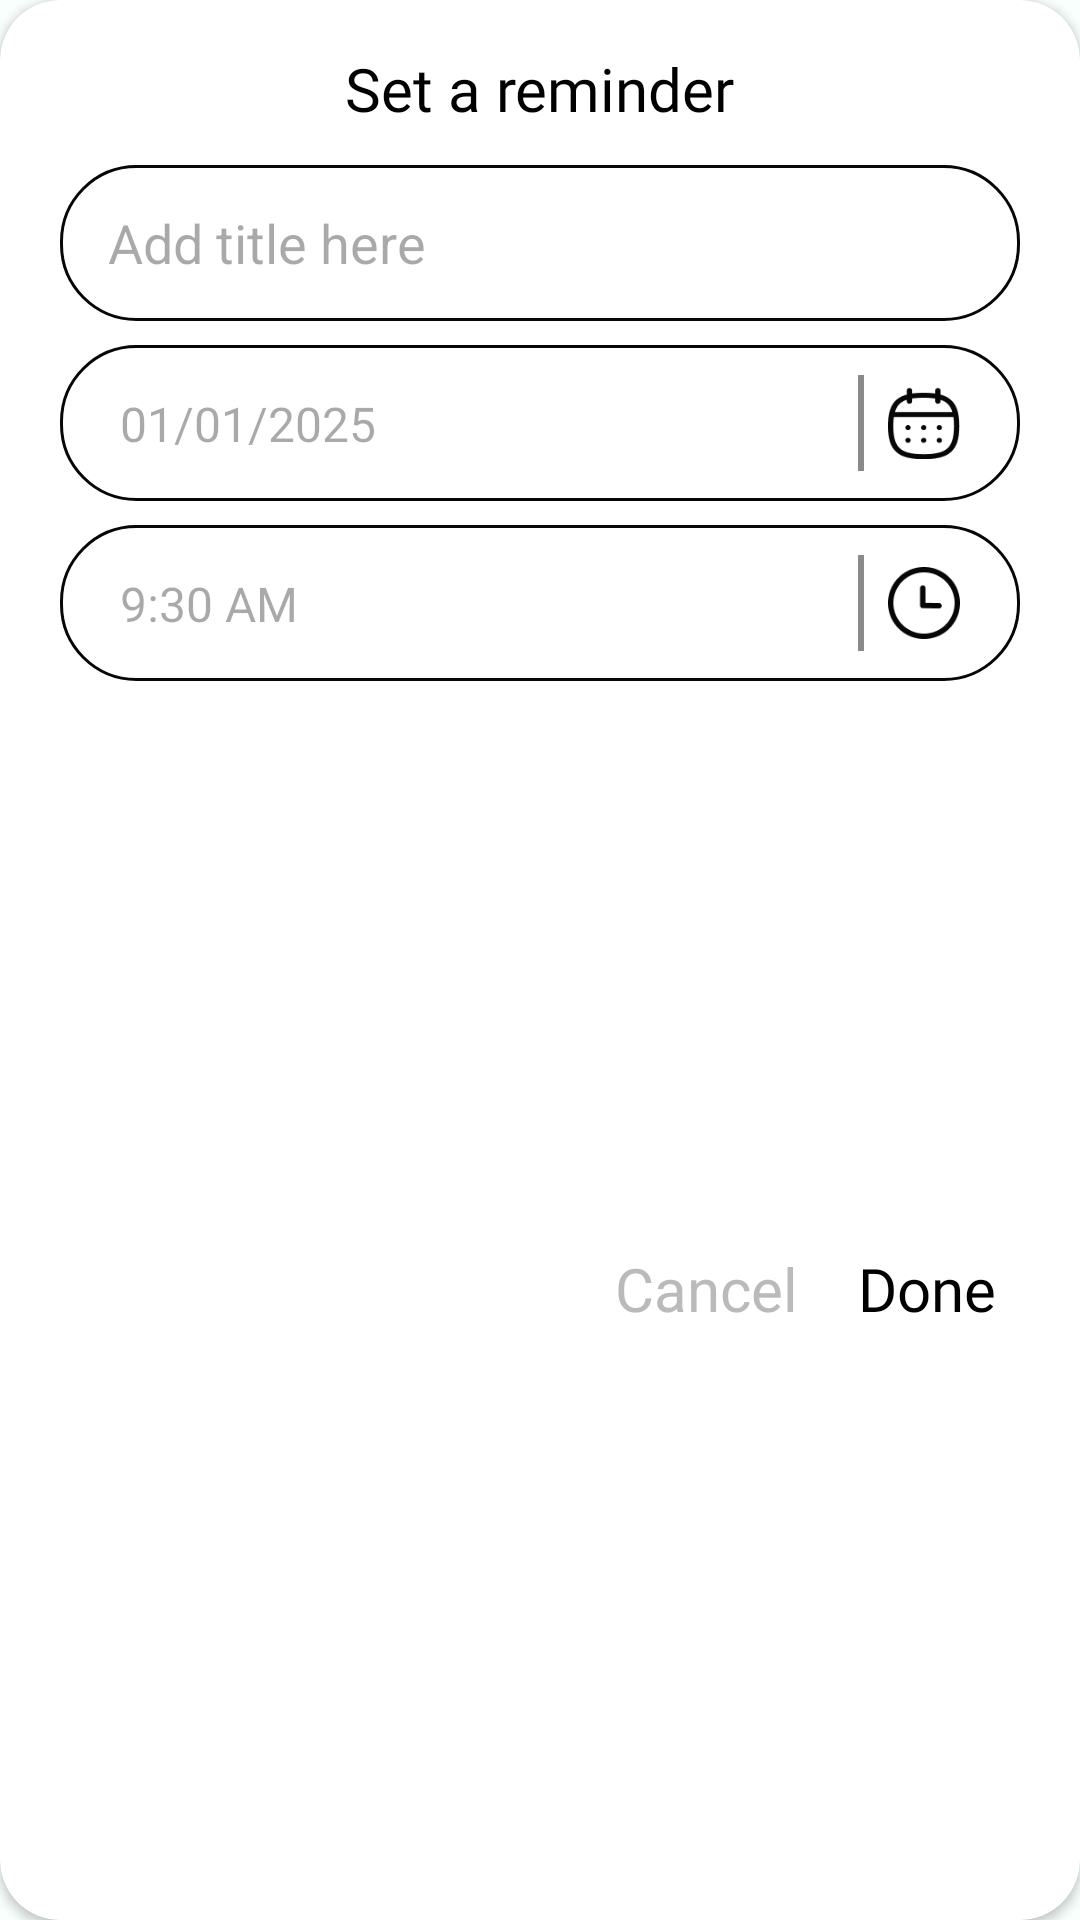

Locate icon controls on the screen. Image size 1080px x 1920px, boxes as (x1, y1, x2, y2).
calender: (888, 388, 960, 459)
clock: (888, 567, 960, 639)
